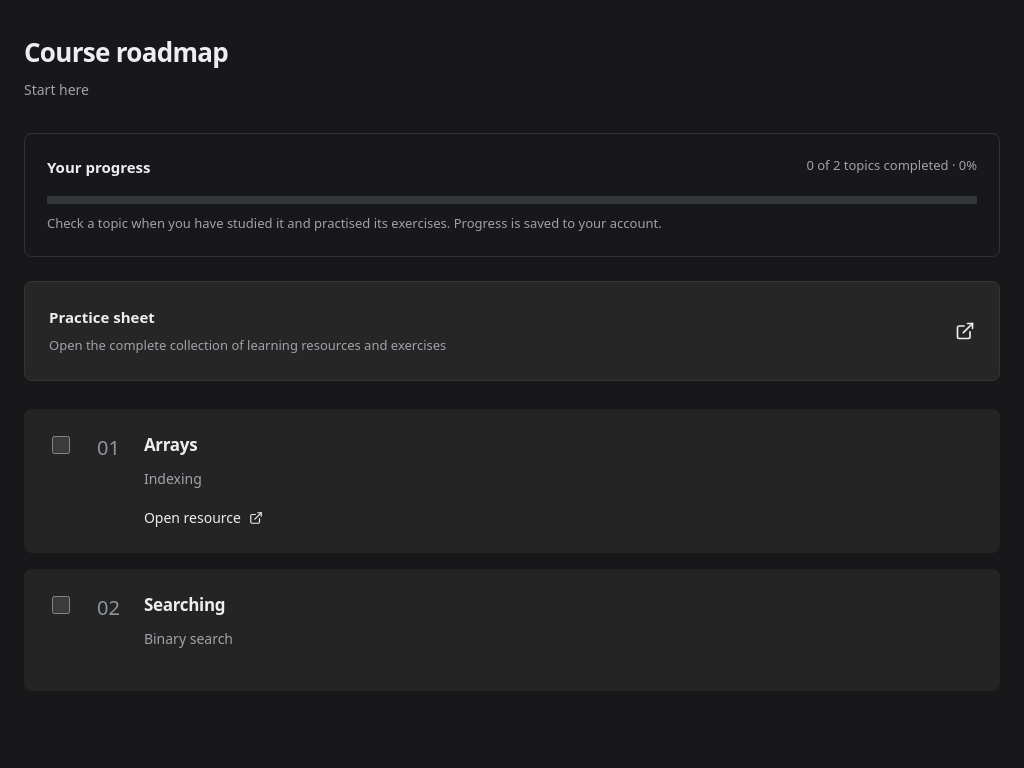
it: saves personal completion and leaves progress unchanged on failure
Click the checkbox named "Mark Arrays complete" at (61, 445), box [52,436,70,454]
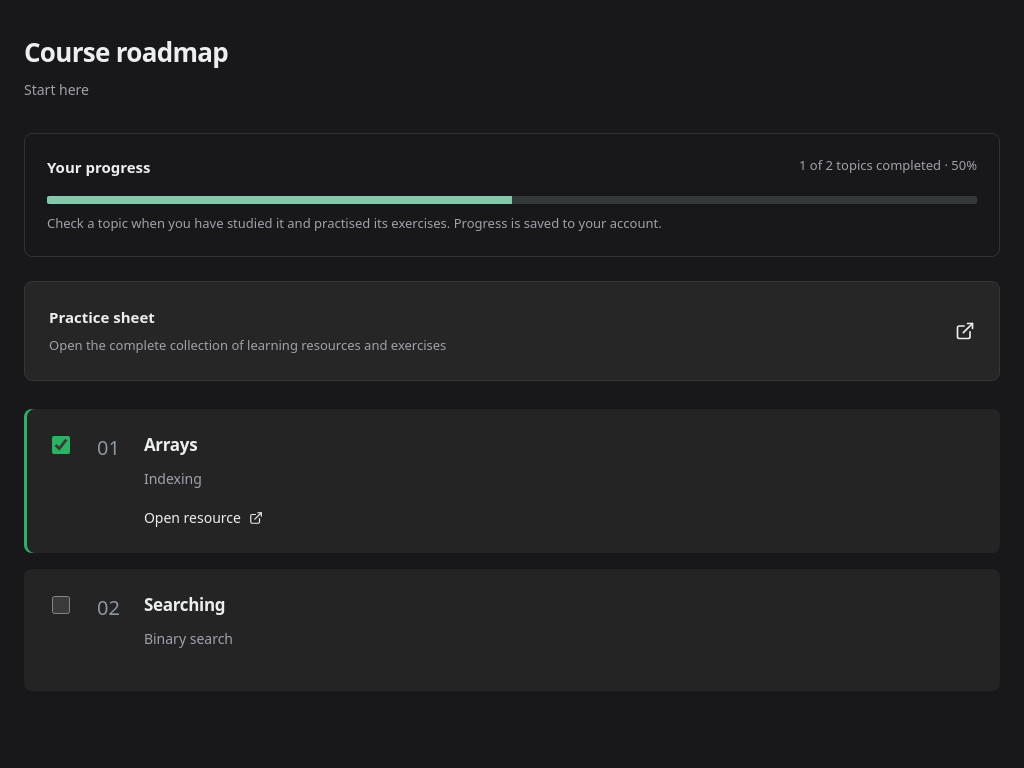
Expected: the checkbox named "Mark Arrays complete" is checked, [52,436,70,454]
Expected: the text "1 of 2 topics completed · 50%" is shown, [799,156,977,178]
Click the checkbox named "Mark Searching complete" at (61, 605), box [52,596,70,614]
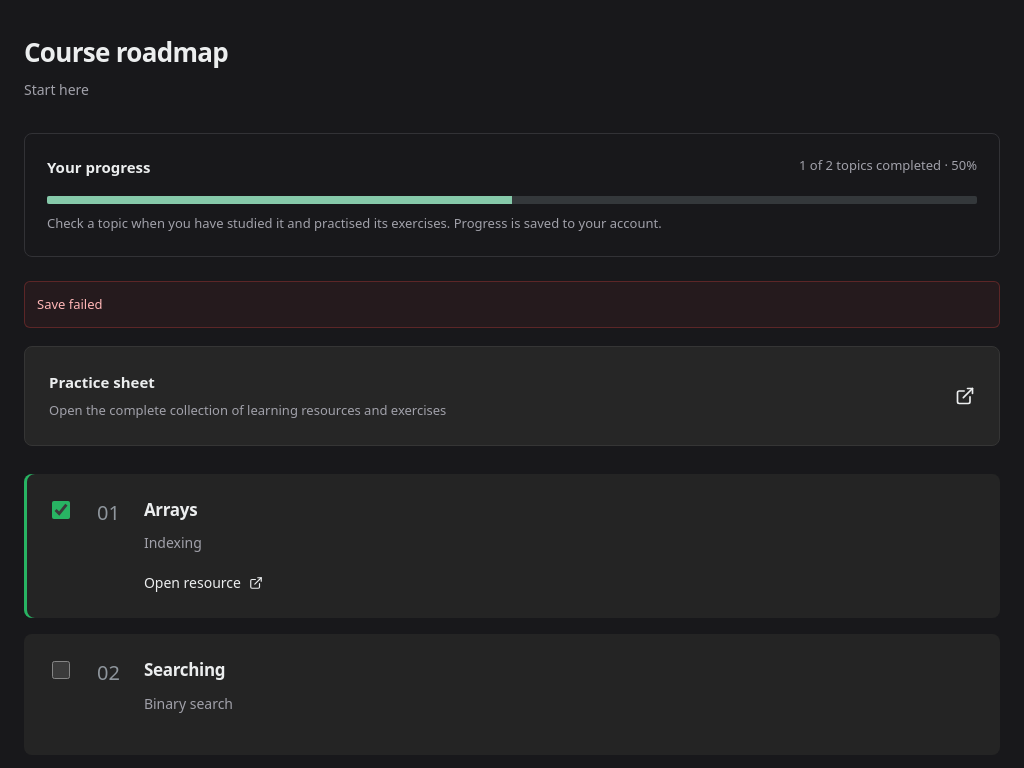
Expected: the checkbox named "Mark Searching complete" is not checked, [52,661,70,679]
Expected: the message reads "Save failed", [37,295,102,313]
